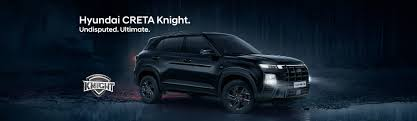car: (133, 31, 315, 113)
